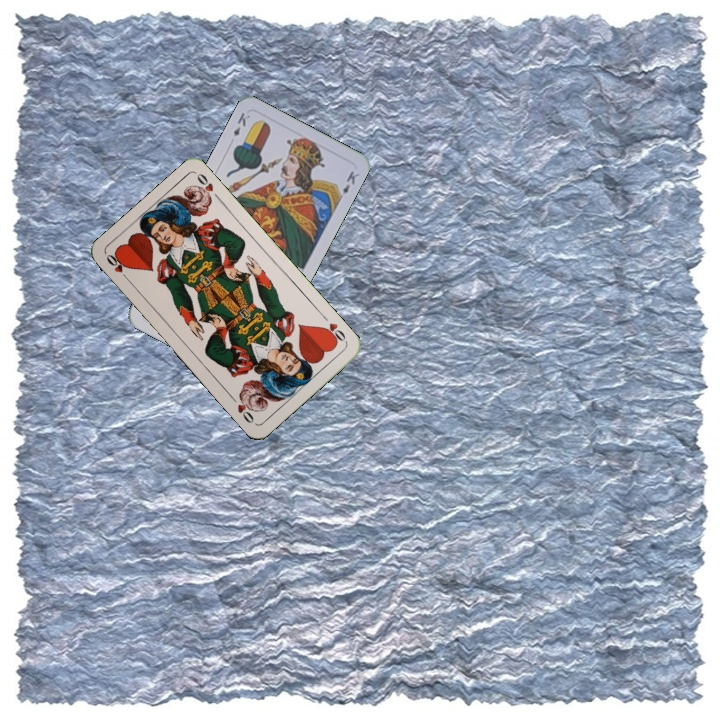EK: (229, 109, 253, 139)
HO: (318, 311, 349, 346), (102, 250, 133, 284)
